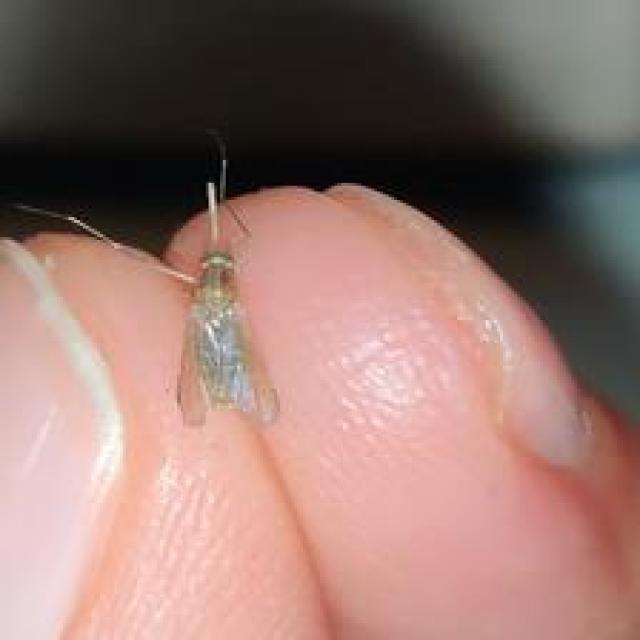Culex: (13, 139, 281, 430)
